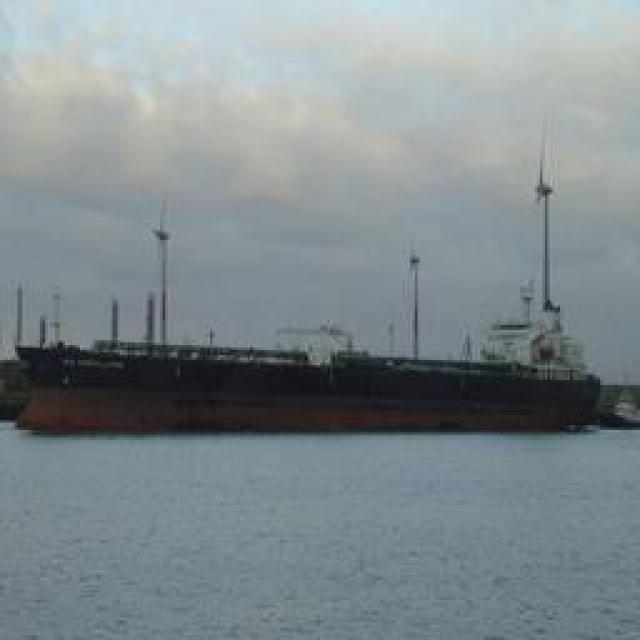Ship: (9, 352, 609, 435)
